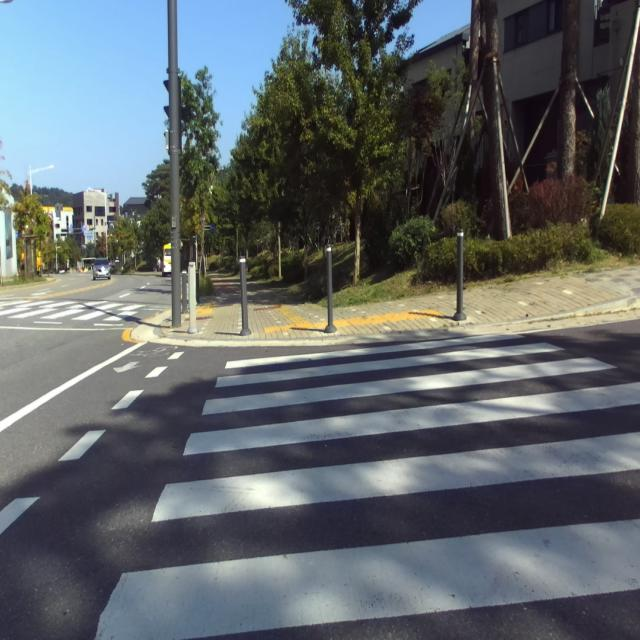횡단보도: (96, 340, 639, 640), (0, 298, 152, 326)
